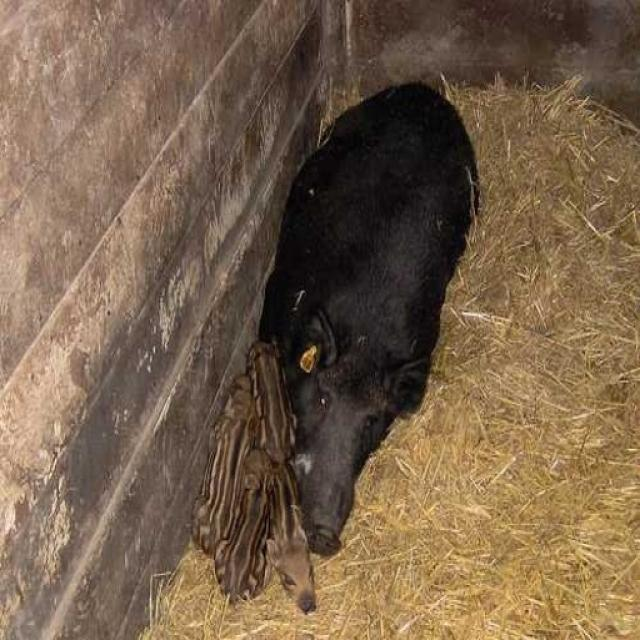pig: (266, 90, 514, 546)
